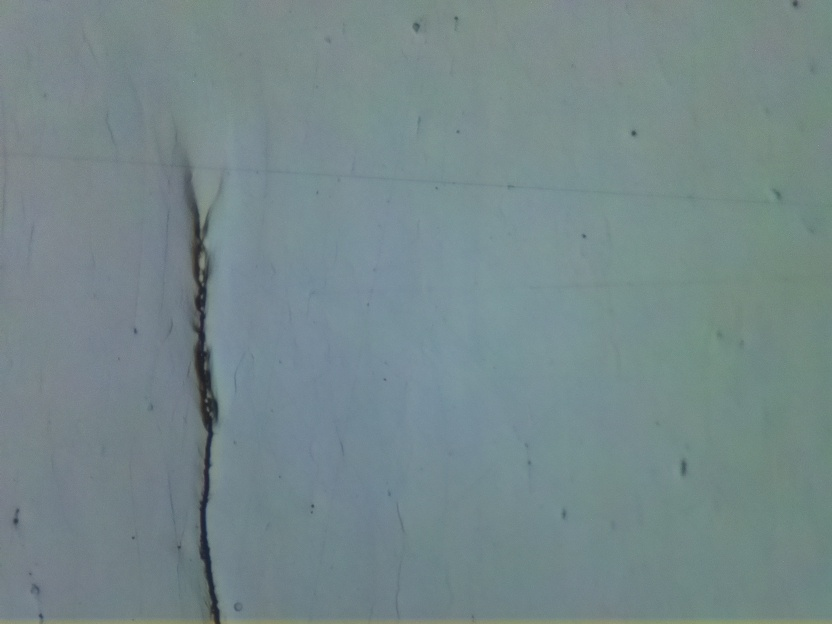crack: (187, 177, 223, 624)
